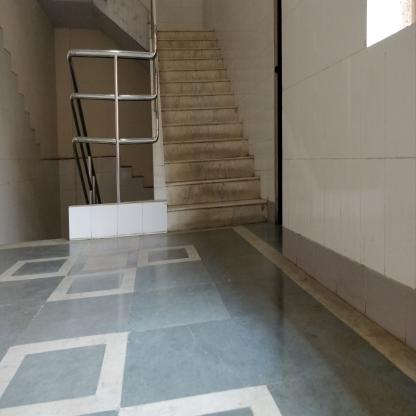stairs: (170, 114, 241, 241)
